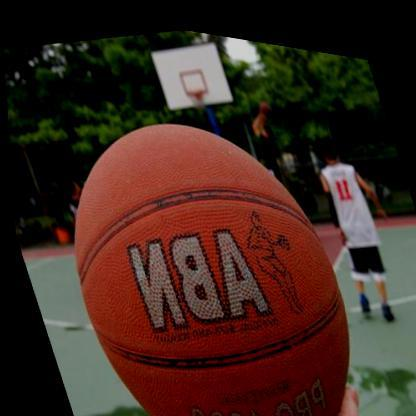basketball: (22, 66, 388, 416), (253, 90, 274, 112)
